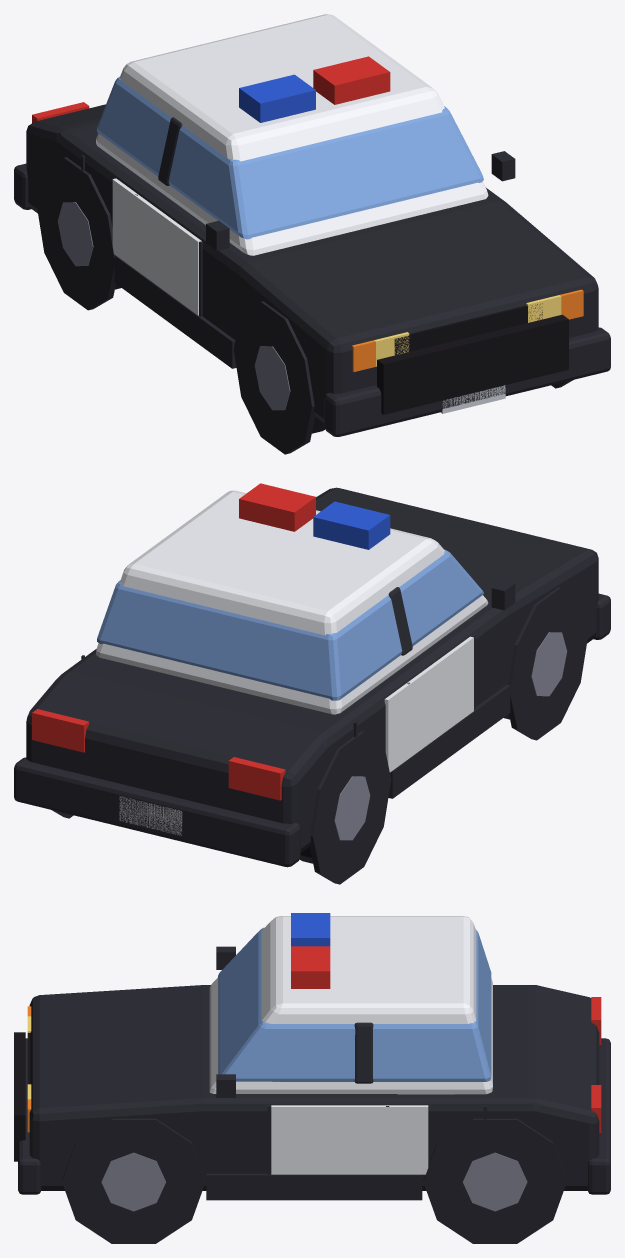
The model's file is police.glb.
The picture shows the model from 3 angles, top to bottom: view 1: azimuth 30°, elevation 25°; view 2: azimuth 150°, elevation 25°; view 3: azimuth 270°, elevation 25°; orthographic projection. The views are drawn at different scales.
Parts seen in each view (by area): view 1: Police; view 2: Police; view 3: Police.
Boxes of the visible parts, box(x1,y1,x2,y2) form: Police: box(14, 14, 610, 454); Police: box(14, 483, 610, 884); Police: box(14, 913, 610, 1243).
Bounding box in the file's own units: 1.61 × 1.35 × 3.04.
Materials: 1 (1 with a texture image).
